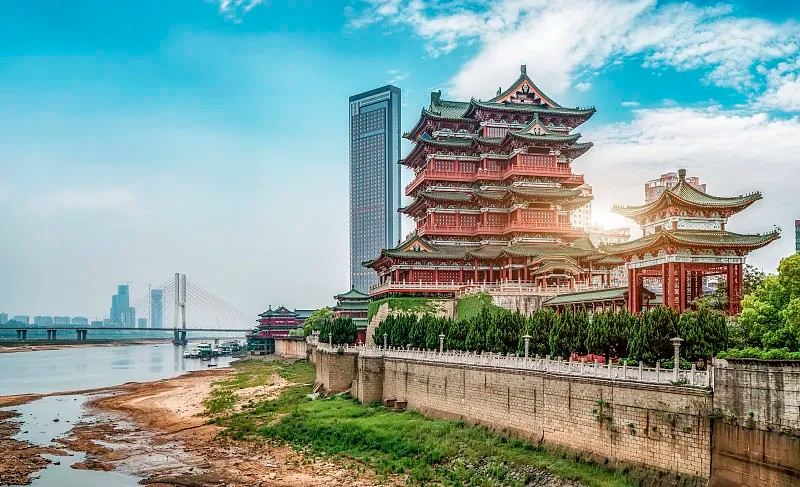Teng: (361, 65, 626, 284)
